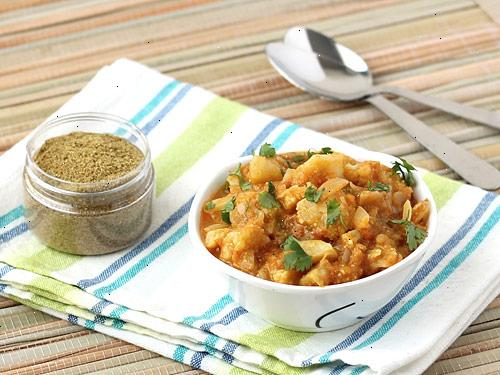aloo gobhi: (206, 148, 434, 292)
